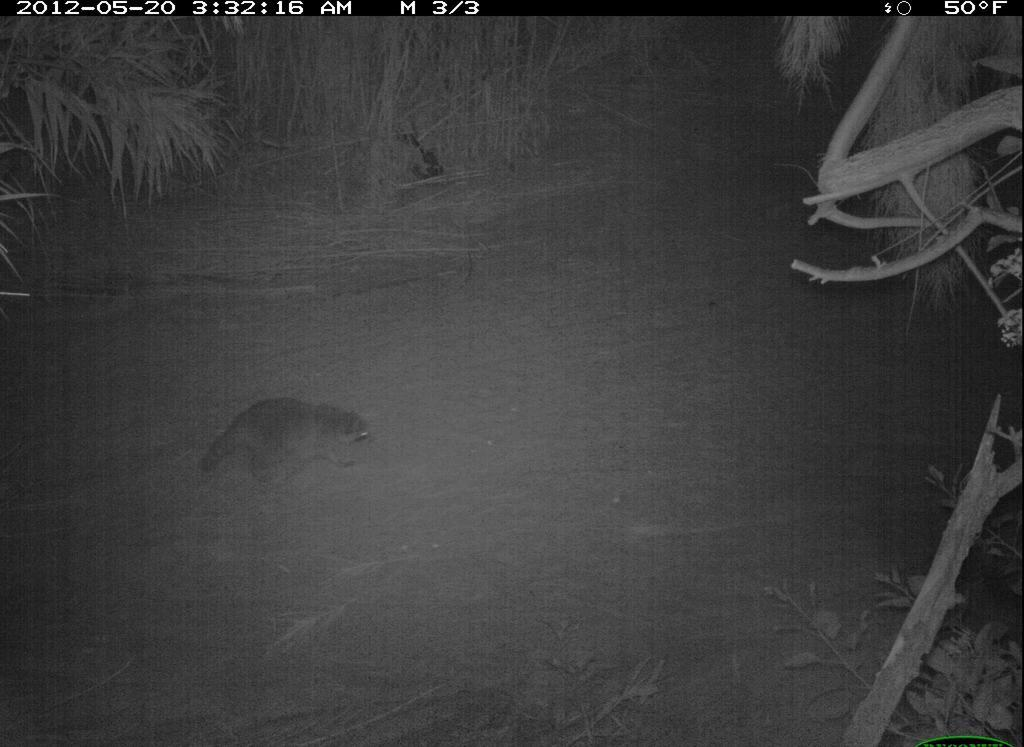raccoon: (198, 391, 382, 493)
